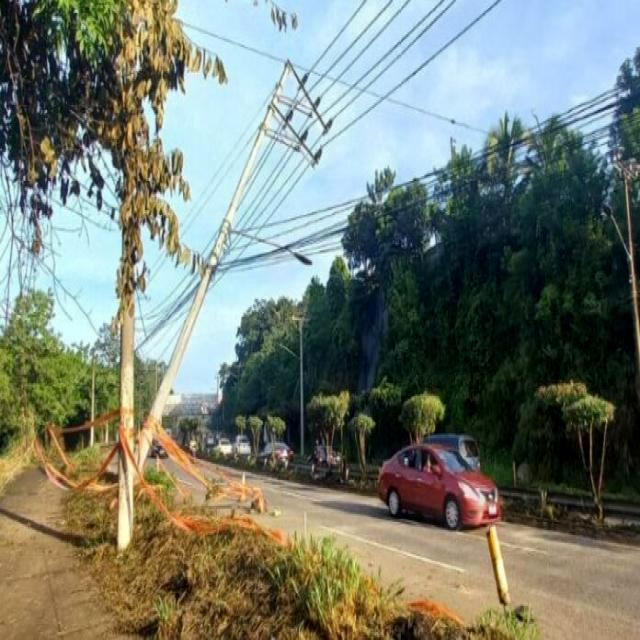Broken Pole: (133, 55, 335, 480)
